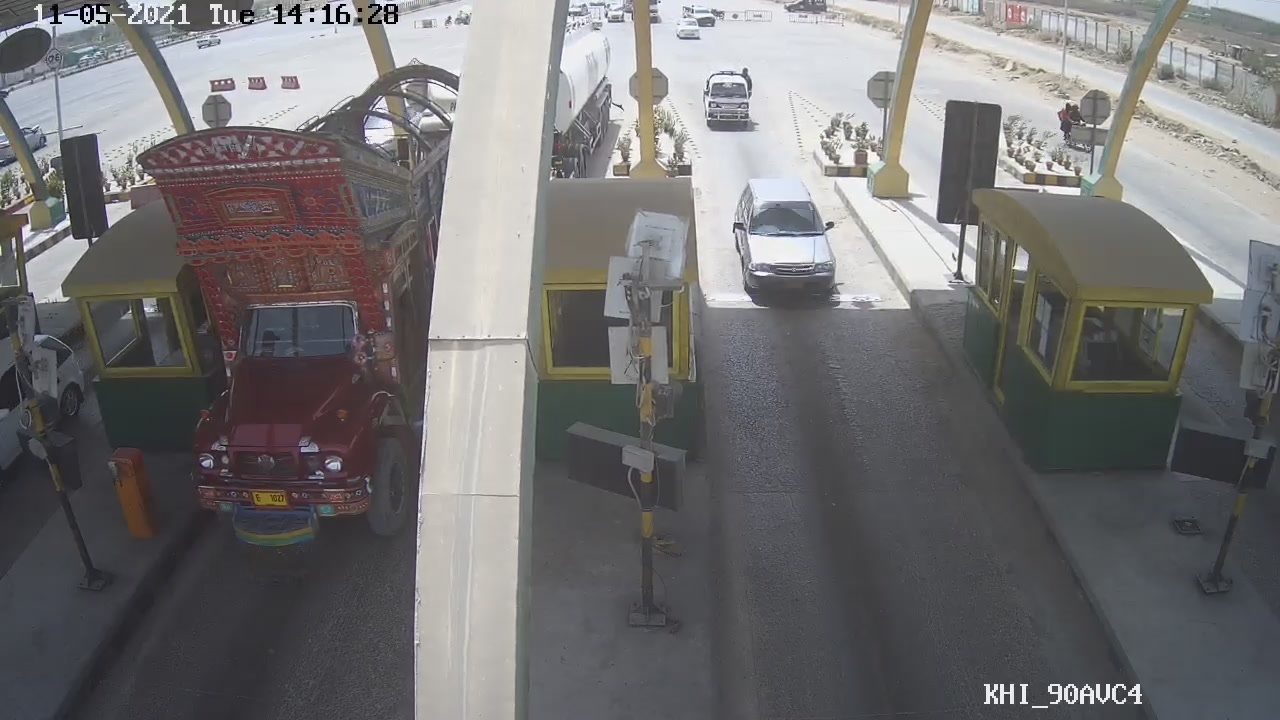F1: (716, 164, 850, 310)
